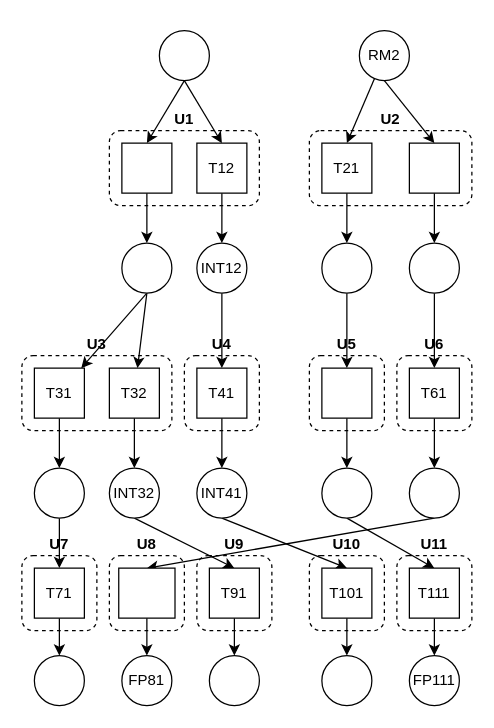
The diagram is 494 pixels wide and 728 high, and some of its shapes have lost their labels. The centre of each missing label's shape, as x and y in pixels:
FP101: the point at 346,680
FP71: the point at 58,680
FP91: the point at 233,680
INT11: the point at 146,267
INT21: the point at 346,267
INT22: the point at 433,267
INT31: the point at 58,492
INT51: the point at 346,492
INT61: the point at 433,492
RM1: the point at 183,55
T11: the point at 146,167
T22: the point at 433,167
T51: the point at 346,392
T81: the point at 146,592
